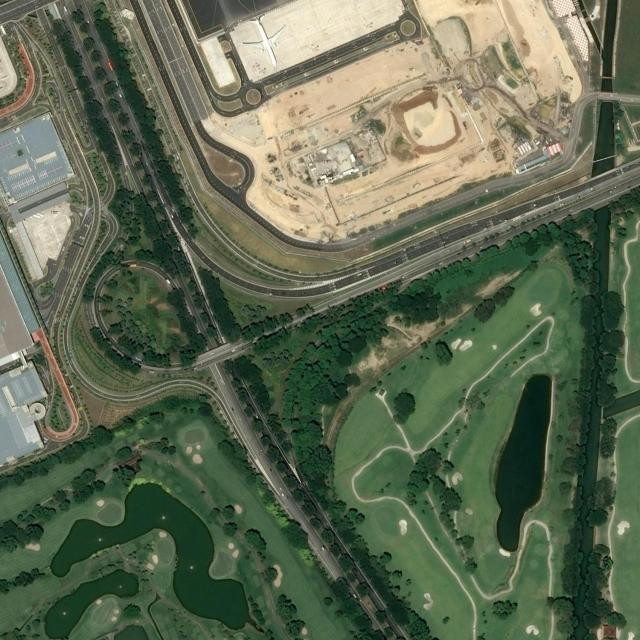Aircraft: (243, 12, 291, 66), (243, 12, 288, 67)
